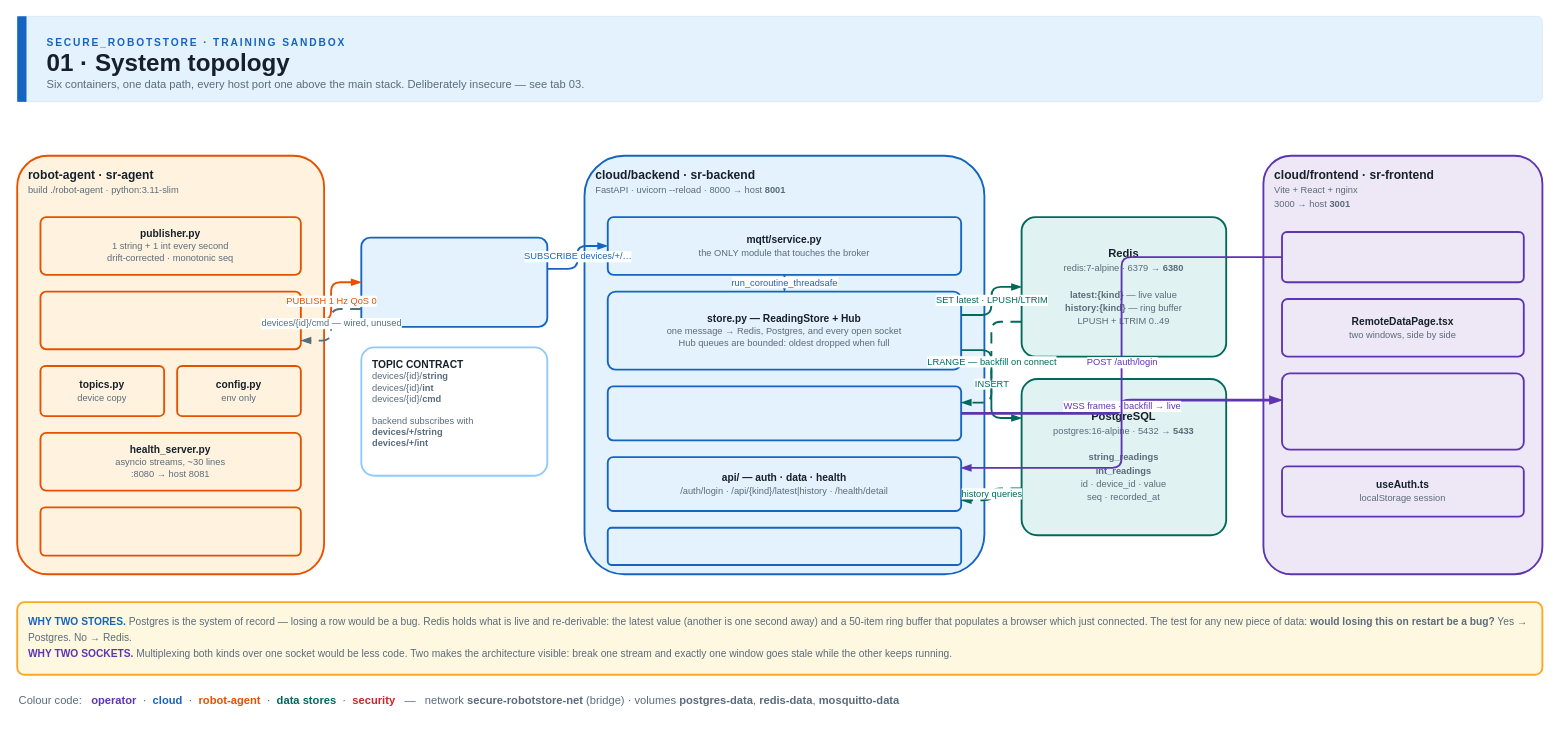
This 1559x731 diagram has some shape labels left out. The centre of each missing label's shape, as x and y in pixels:
LoginPage.tsx operator / demo1234: the point at 1402,257
main.py wires all of it · clean SIGTERM: the point at 170,531
main.py — lifespan() builds everything onto app.state: the point at 784,545
mosquitto eclipse-mosquitto:2 1883 → host 1884: the point at 454,281
mqtt_client.py paho · QoS 0 · re-subscribes on reconnect: the point at 170,320
useReadingSocket.ts one socket per kind · capped backoff detects gaps in seq: the point at 1402,411
ws/stream.py /ws/string_api · /ws/int_api · idle ping 10s: the point at 784,413
